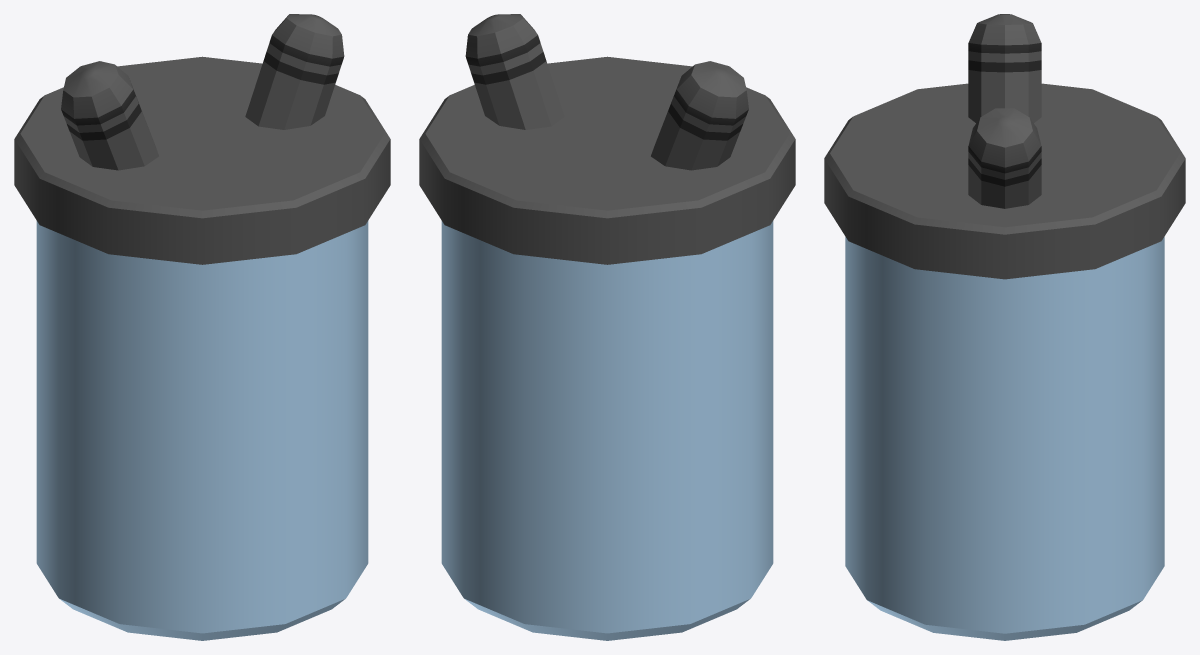
The model's file is BrainJar_03.fbx.
The picture shows the model from 3 angles, left to right: view 1: azimuth 30°, elevation 25°; view 2: azimuth 150°, elevation 25°; view 3: azimuth 270°, elevation 25°; orthographic projection. The views are drawn at different scales.
Visible parts, largest first — view 1: BrainJar_02; view 2: BrainJar_02; view 3: BrainJar_02.
Part boxes in pixels (x1,y1,x2,y2): BrainJar_02: (14, 14, 390, 640); BrainJar_02: (419, 14, 795, 640); BrainJar_02: (824, 14, 1185, 640).
Size of the model in its own units: 173 by 272 by 173.
